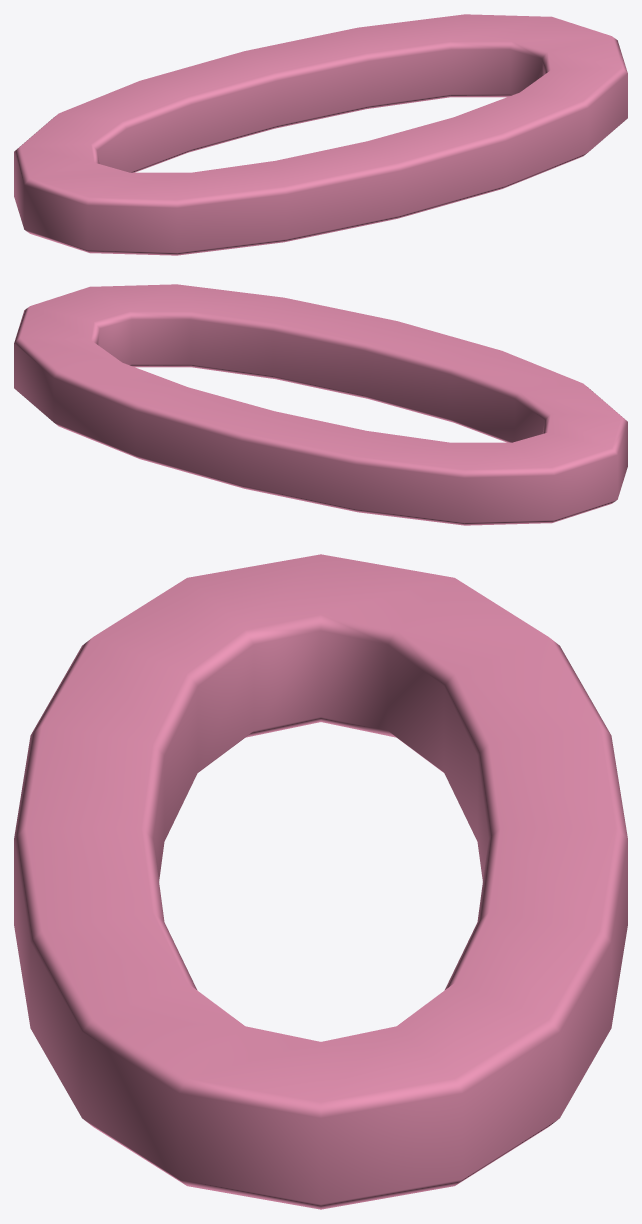
The model's file is Squid_1_Ring_1.fbx.
3 renders of one model, top to bottom at view 1: azimuth 30°, elevation 25°; view 2: azimuth 150°, elevation 25°; view 3: azimuth 270°, elevation 25°, orthographic. The views are drawn at different scales.
Parts seen in each view (by area): view 1: Squid_1_Ring_1; view 2: Squid_1_Ring_1; view 3: Squid_1_Ring_1.
Part boxes in pixels (x1,y1,x2,y2): Squid_1_Ring_1: (14, 14, 627, 255); Squid_1_Ring_1: (14, 284, 627, 525); Squid_1_Ring_1: (14, 554, 627, 1209).
Bounding box in the file's own units: 11.51 × 1.03 × 5.35.
